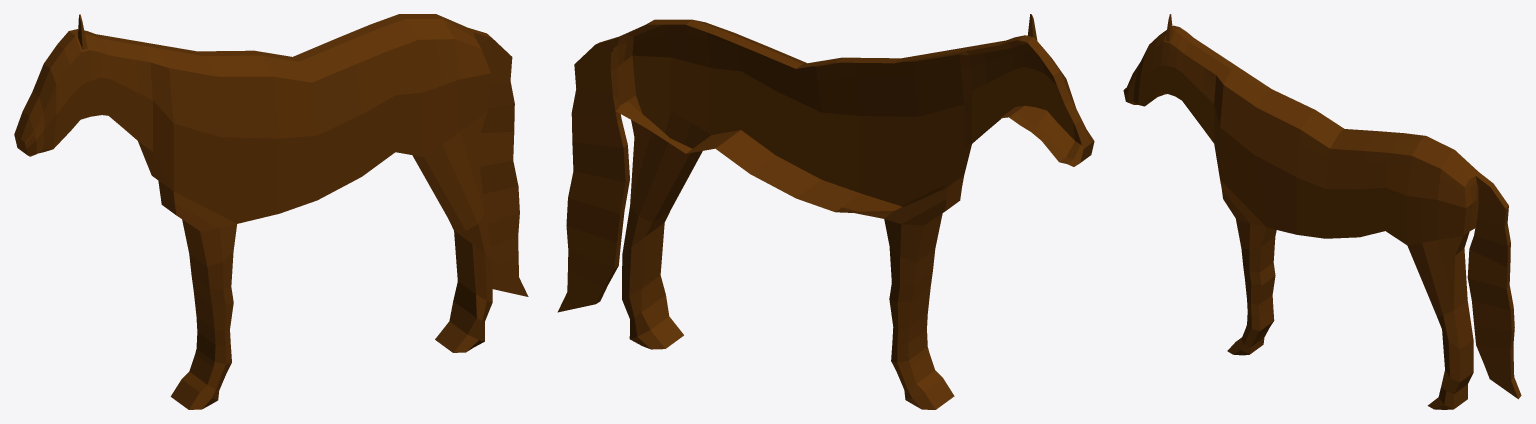
3 renders of one model, left to right at view 1: azimuth 30°, elevation 25°; view 2: azimuth 150°, elevation 25°; view 3: azimuth 330°, elevation 25°, orthographic. The views are drawn at different scales.
Visible parts, largest first — view 1: Plane; view 2: Plane; view 3: Plane.
Part boxes in pixels (x1,y1,x2,y2): Plane: [14, 14, 528, 409]; Plane: [557, 14, 1094, 409]; Plane: [1123, 14, 1521, 409].
Bounding box in the file's own units: 4.56 × 3.53 × 0.493.
Materials: 1 (1 with a texture image).
